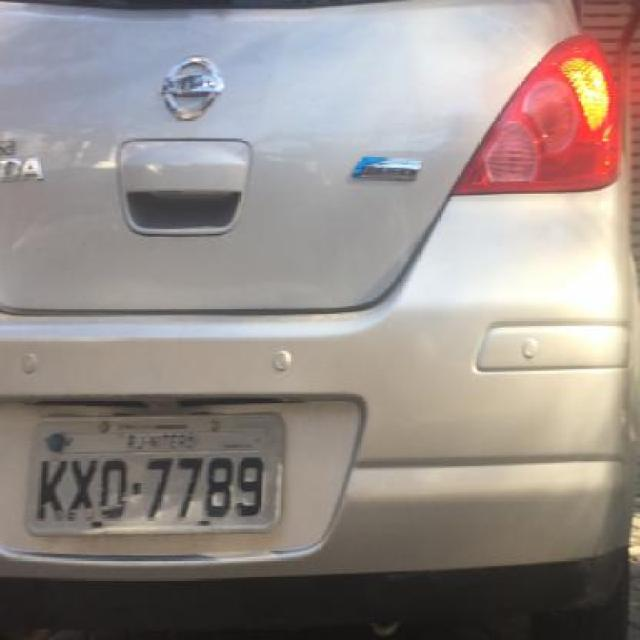old_plate: (20, 408, 295, 543)
